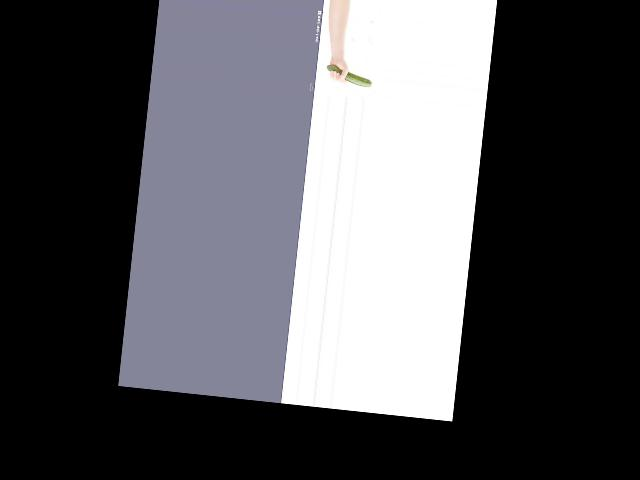cucumber: (324, 65, 373, 88)
